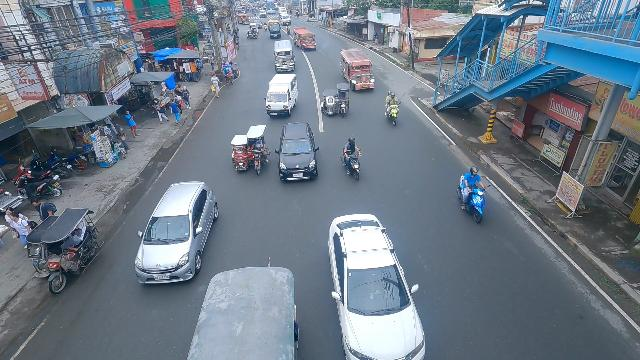car: (320, 213, 428, 360), (133, 178, 220, 288), (274, 120, 321, 185), (259, 10, 267, 17)
jeepney: (339, 48, 375, 94), (270, 38, 296, 74), (292, 26, 317, 52), (237, 13, 250, 25)
motorcycle: (454, 167, 491, 227), (339, 137, 364, 184), (384, 91, 399, 128), (263, 21, 268, 32), (286, 25, 291, 35), (253, 9, 257, 17)
truck: (268, 21, 282, 39)
van: (265, 72, 300, 118), (280, 14, 291, 26)
